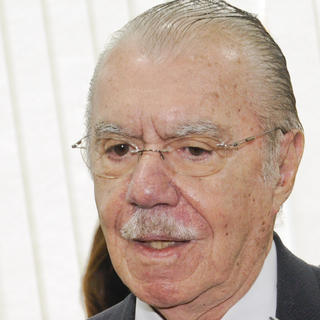eye: (94, 138, 145, 165), (169, 139, 221, 165)
